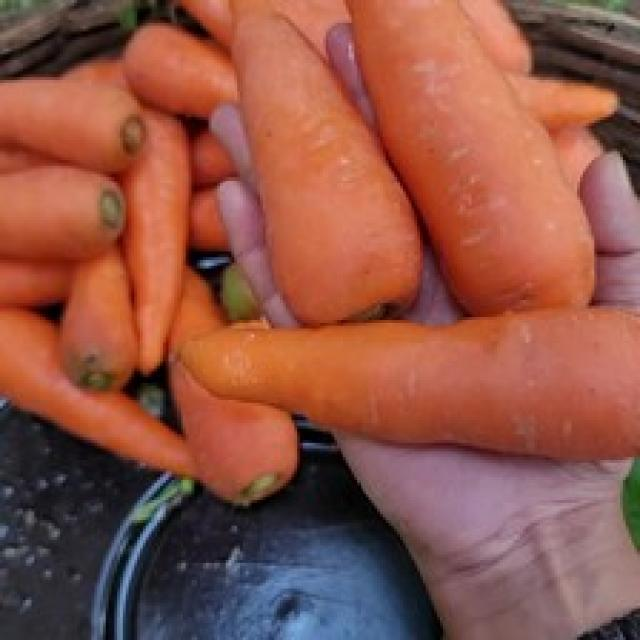Fresh_Carrot: (346, 0, 595, 315), (196, 308, 640, 469), (222, 0, 426, 325), (0, 314, 192, 484), (129, 100, 205, 373), (0, 83, 137, 178), (0, 171, 125, 268)
